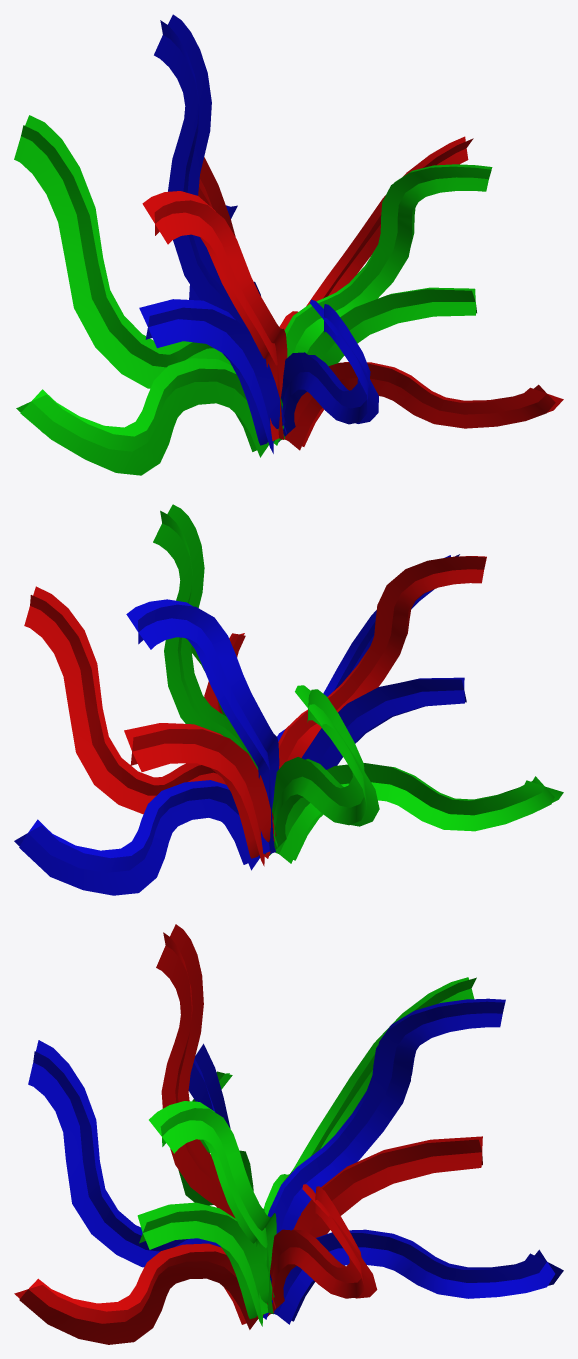
File: SM_shurricane_Ribbon_01.FBX
The picture shows the model from 3 angles, top to bottom: view 1: azimuth 30°, elevation 25°; view 2: azimuth 150°, elevation 25°; view 3: azimuth 270°, elevation 25°; orthographic projection. The views are drawn at different scales.
Parts seen in each view (by area): view 1: SM_shurricane_Ribbon_01; view 2: SM_shurricane_Ribbon_01; view 3: SM_shurricane_Ribbon_01.
Boxes of the visible parts, bbox=[...] form: SM_shurricane_Ribbon_01: bbox=[14, 14, 563, 475]; SM_shurricane_Ribbon_01: bbox=[14, 504, 563, 895]; SM_shurricane_Ribbon_01: bbox=[14, 924, 563, 1344].
Bounding box in the file's own units: 394 × 387 × 256.
